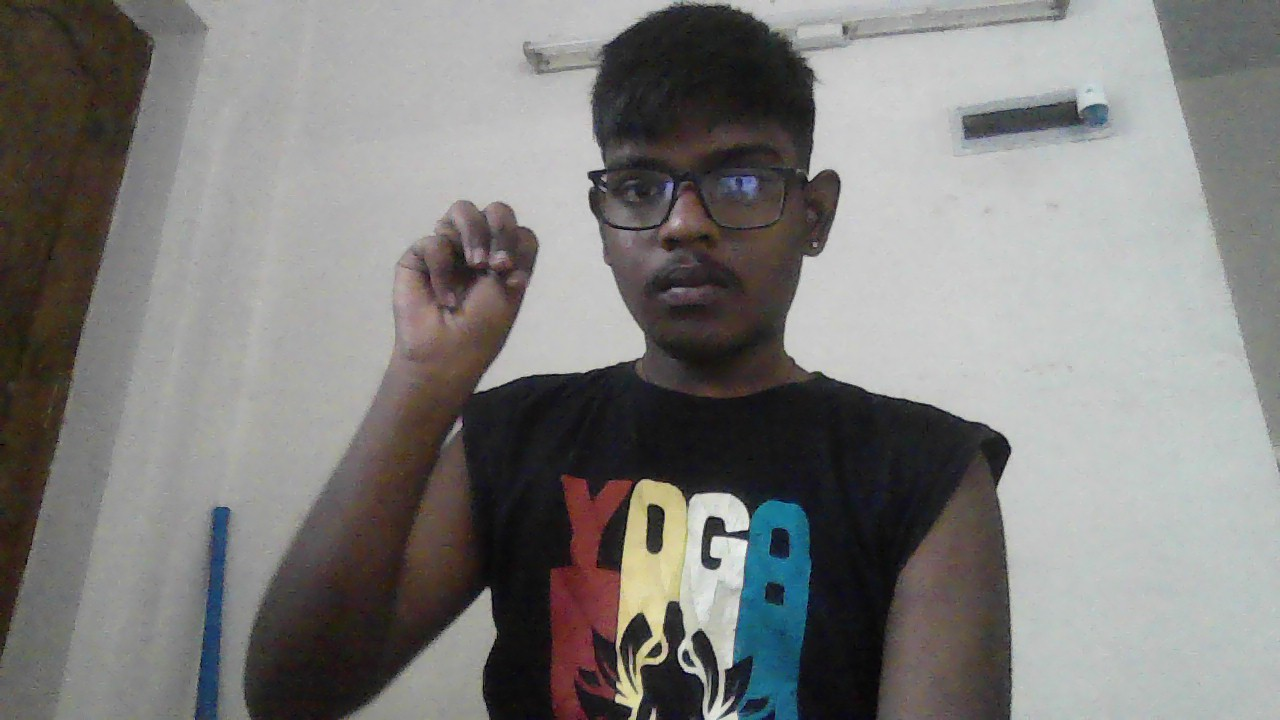M: (393, 198, 539, 383)
